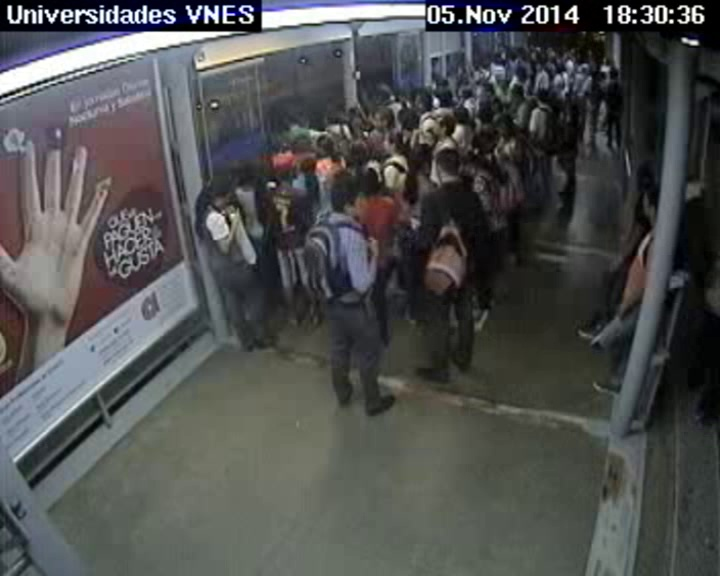person: (329, 172, 368, 218), (202, 175, 234, 212), (436, 149, 466, 181), (641, 184, 668, 218), (407, 143, 435, 174), (356, 166, 384, 194), (632, 161, 656, 192), (347, 137, 372, 164), (369, 107, 394, 132), (381, 131, 403, 157), (432, 115, 455, 139), (397, 108, 419, 132), (314, 134, 337, 156), (282, 106, 303, 130), (373, 82, 395, 104), (466, 133, 486, 155), (237, 164, 257, 186), (347, 109, 366, 131), (298, 158, 318, 178), (412, 91, 431, 111), (277, 136, 295, 156), (453, 104, 471, 122), (328, 106, 345, 125), (277, 172, 294, 190), (495, 120, 511, 139), (436, 87, 453, 104), (477, 101, 494, 117), (295, 137, 311, 154), (534, 88, 549, 104), (511, 85, 526, 101), (480, 83, 495, 98), (513, 65, 528, 79), (458, 84, 473, 98), (490, 100, 503, 113), (576, 47, 588, 60), (515, 46, 526, 58), (562, 93, 573, 105), (479, 59, 490, 70), (554, 64, 566, 74), (609, 68, 619, 79), (591, 70, 601, 80), (567, 45, 576, 55), (548, 51, 557, 60), (536, 63, 545, 72), (602, 56, 610, 65), (531, 53, 539, 62), (493, 52, 501, 61), (533, 44, 541, 52), (509, 51, 516, 60)
